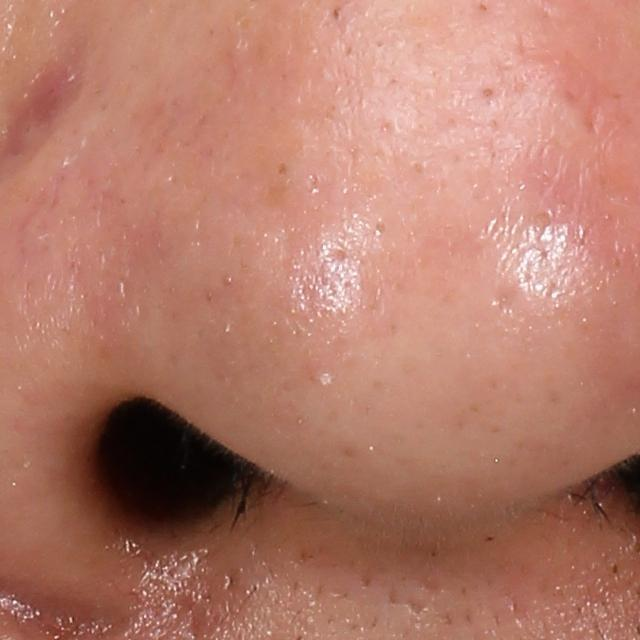comedo: (332, 7, 345, 21)
